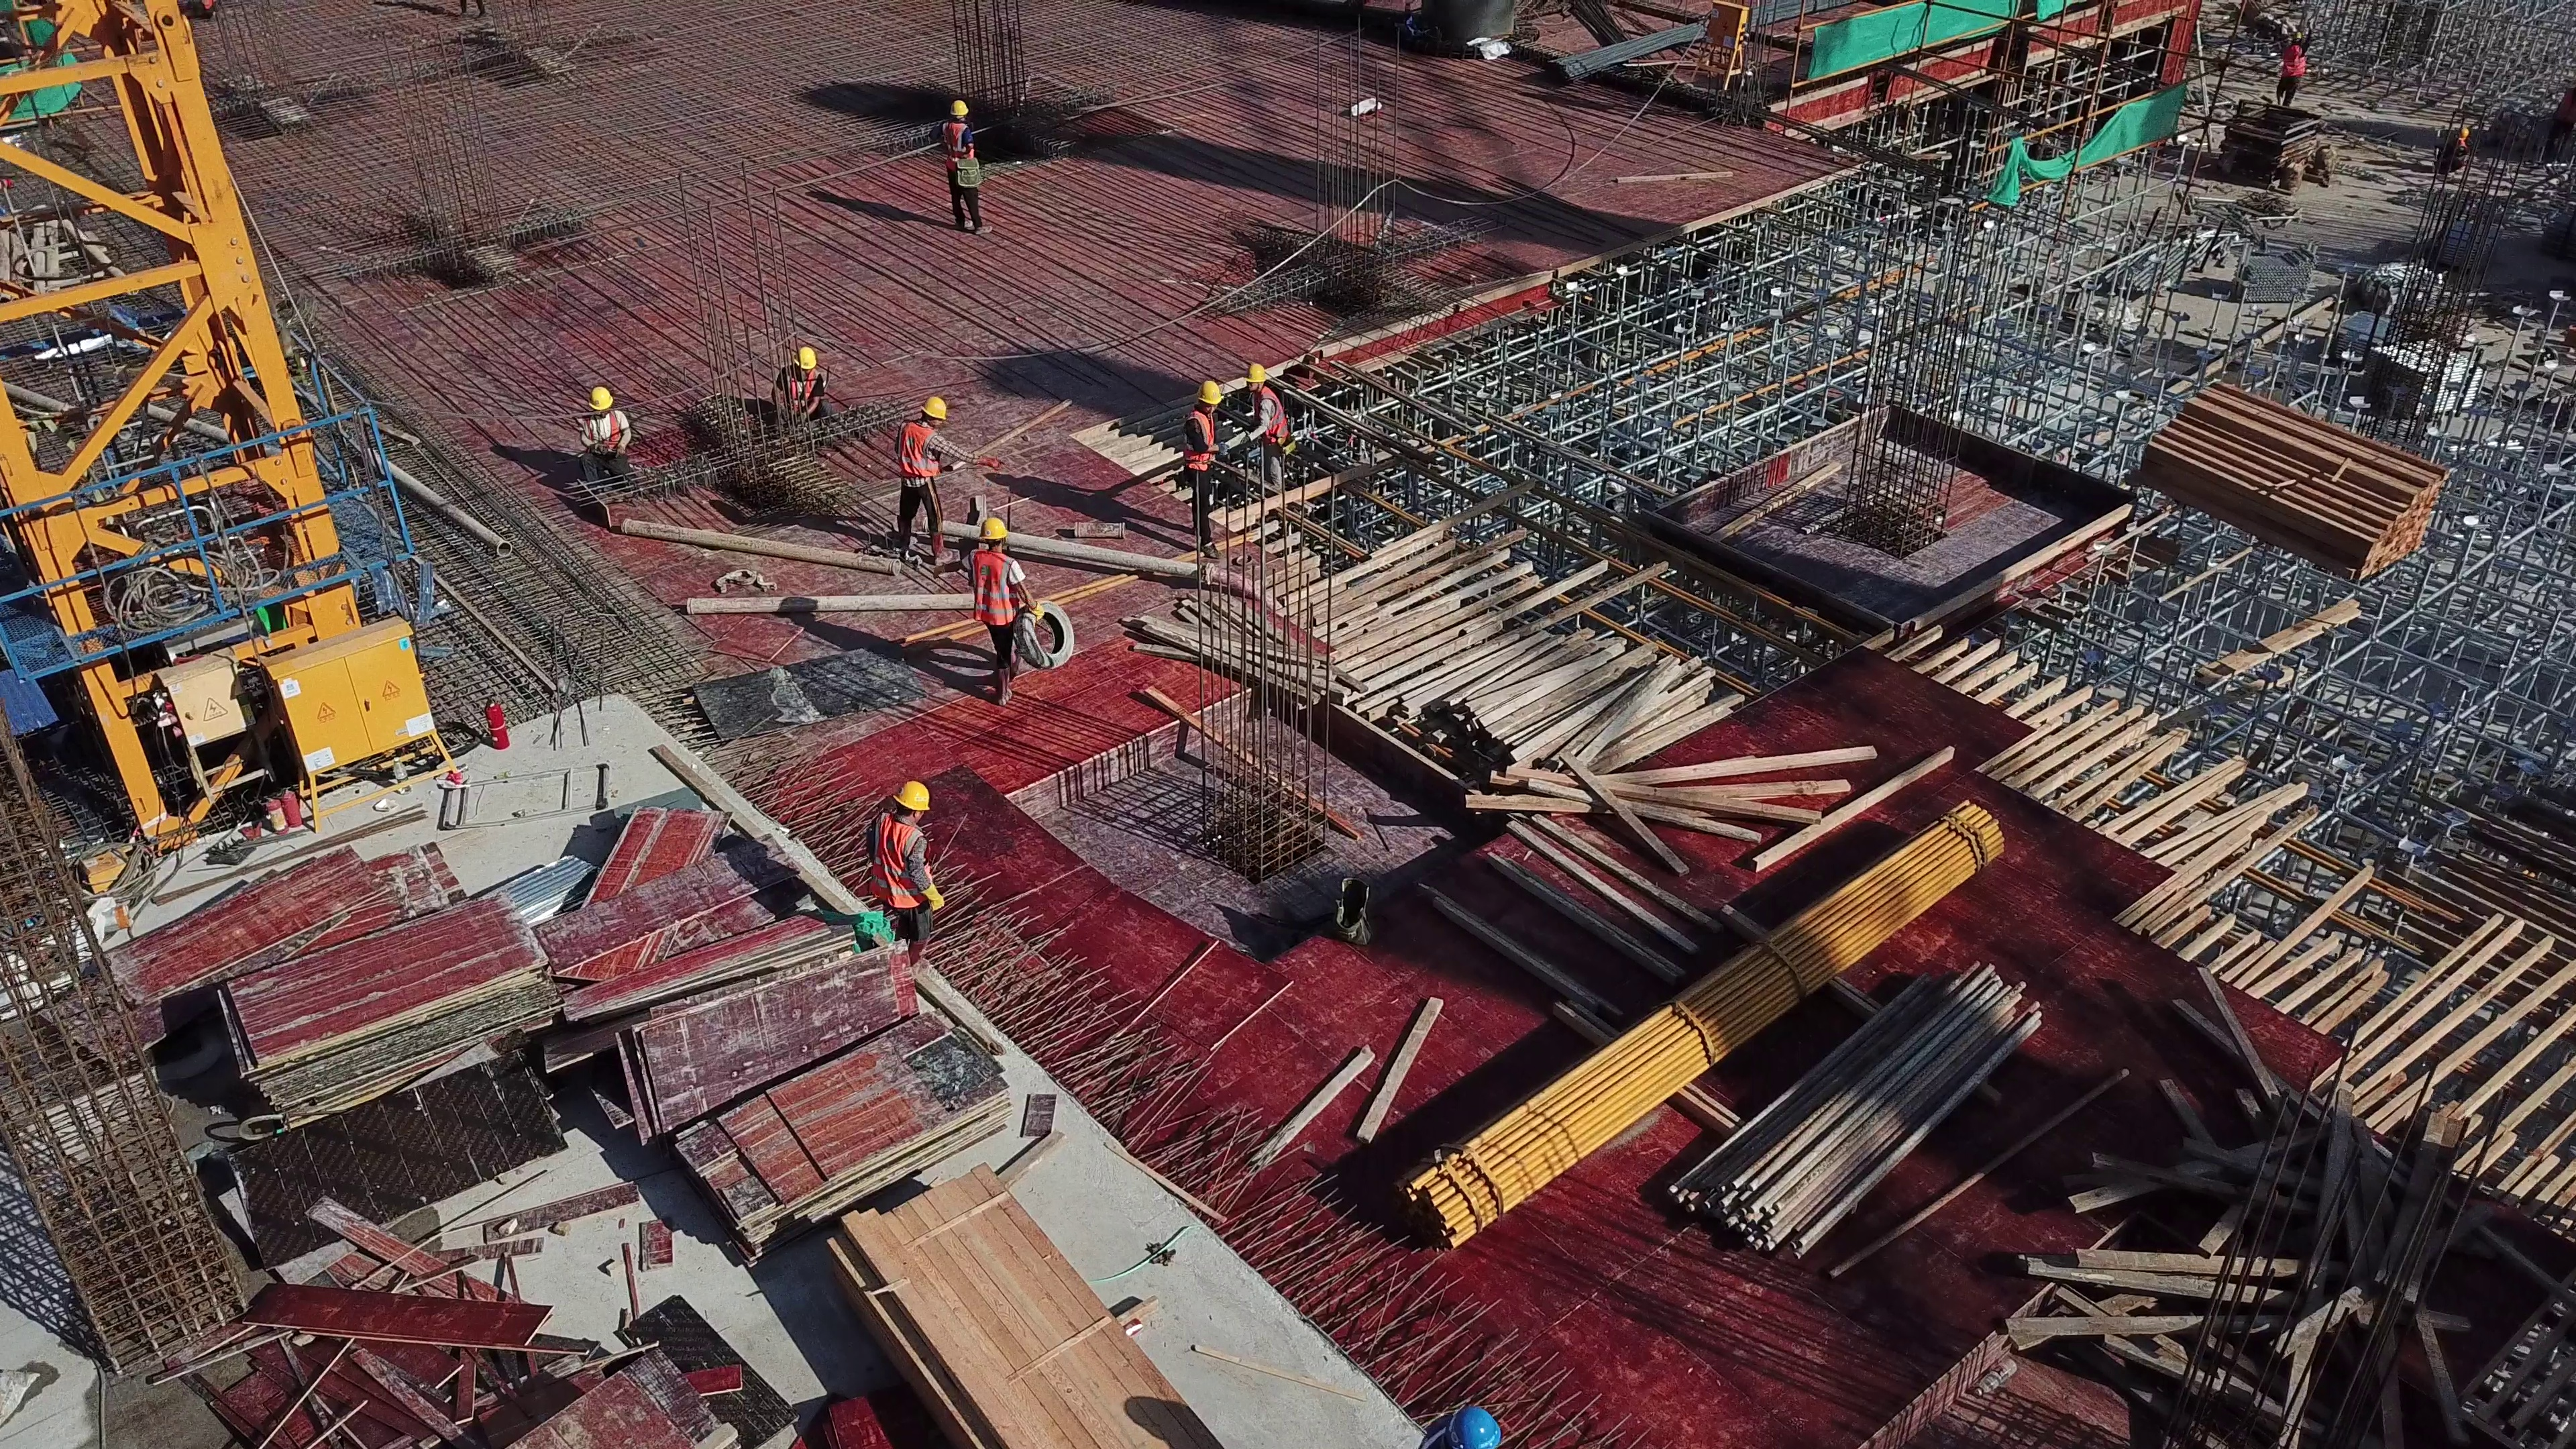board: (664, 1005, 1012, 1260), (219, 890, 566, 1114), (98, 841, 470, 1038)
ebox: (259, 614, 458, 836), (156, 651, 275, 804)
helmet: (894, 782, 932, 812), (920, 395, 950, 422), (979, 516, 1010, 541), (1197, 380, 1224, 406), (587, 386, 612, 411), (794, 345, 818, 369), (1243, 364, 1267, 382), (950, 99, 969, 116)
person: (863, 780, 945, 968), (967, 513, 1044, 707), (894, 394, 967, 565), (926, 97, 996, 240), (1183, 380, 1230, 561), (1239, 364, 1297, 490), (578, 386, 634, 488), (771, 346, 830, 427), (2276, 25, 2310, 108)
vest: (871, 814, 935, 911), (973, 549, 1016, 627), (896, 422, 942, 476), (1252, 386, 1291, 444), (1181, 411, 1215, 470), (940, 121, 973, 172), (582, 413, 621, 453), (787, 365, 822, 405)
wood: (2148, 374, 2454, 586), (1394, 633, 1737, 811)
